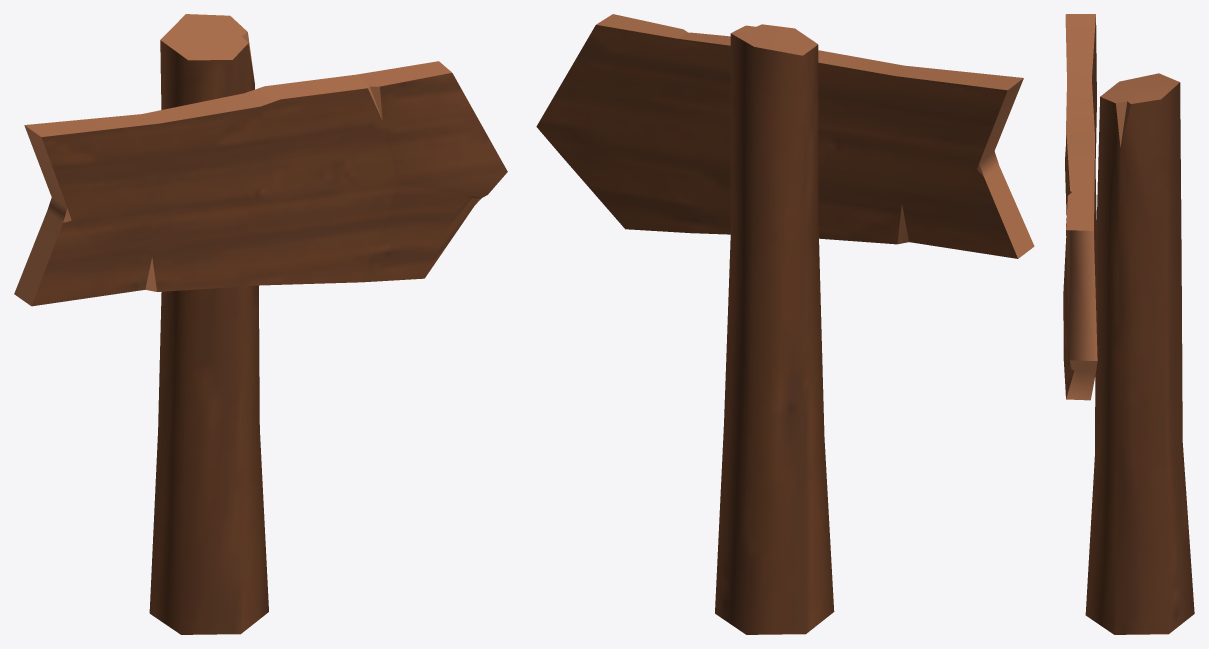
The model's file is bang go trai.fbx.
The picture shows the model from 3 angles, left to right: view 1: azimuth 30°, elevation 25°; view 2: azimuth 150°, elevation 25°; view 3: azimuth 270°, elevation 25°; orthographic projection. The views are drawn at different scales.
Visible parts, largest first — view 1: bang_go_trai, coc_go; view 2: bang_go_trai, coc_go; view 3: coc_go, bang_go_trai.
Part boxes in pixels (x1,y1,x2,y2): bang_go_trai: [14, 61, 507, 306]; coc_go: [149, 14, 268, 634]; bang_go_trai: [536, 14, 1034, 258]; coc_go: [715, 24, 834, 634]; coc_go: [1085, 73, 1194, 634]; bang_go_trai: [1063, 14, 1097, 400].
Bounding box in the file's own units: 322 × 373 × 83.49.
Materials: 1 (1 with a texture image).
